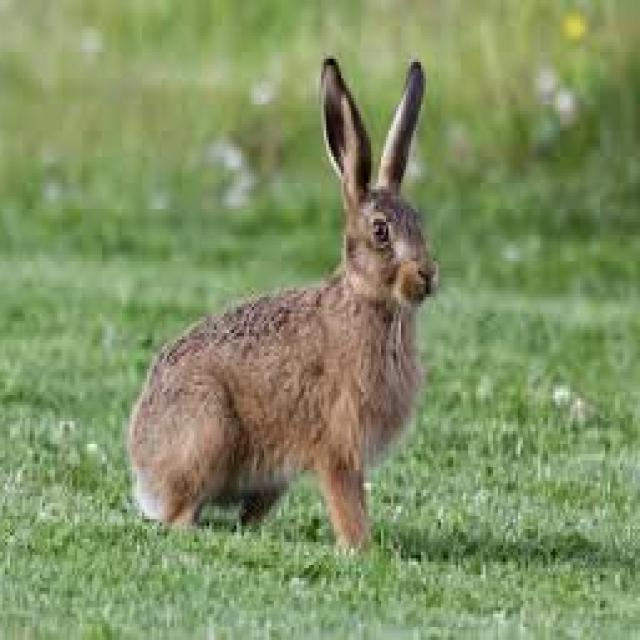hare: (129, 59, 438, 545)
